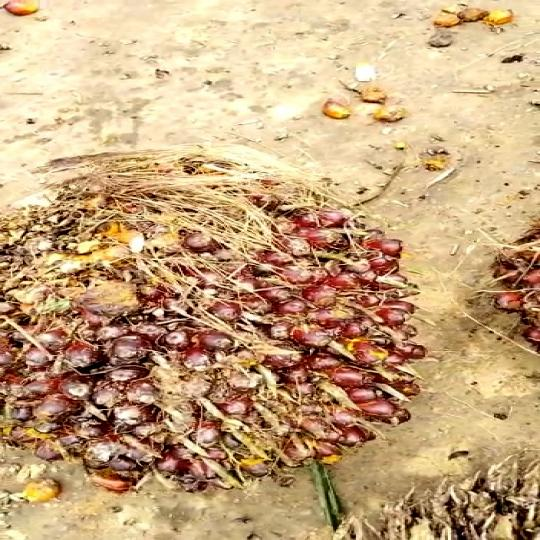kurang masak: (5, 152, 434, 515)
